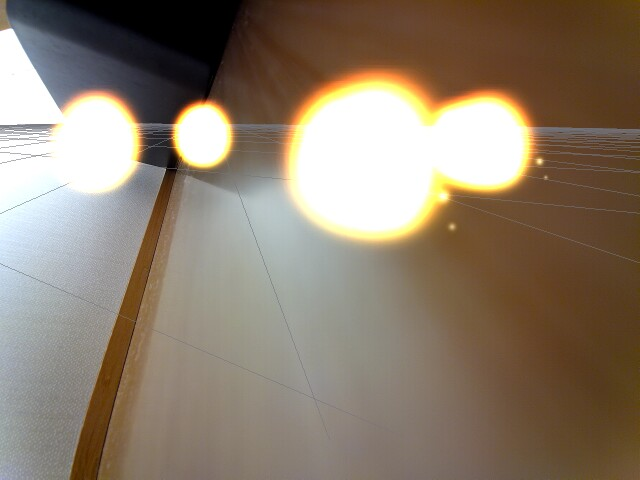fire: (283, 73, 442, 242), (47, 93, 144, 198), (435, 92, 531, 194), (172, 100, 234, 171)
